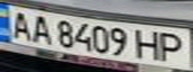0: (90, 24, 112, 55)
4: (72, 20, 93, 52)
8: (51, 17, 75, 48)
9: (109, 25, 130, 57)
A: (3, 8, 36, 41), (27, 14, 54, 45)
H: (133, 28, 166, 61)
P: (154, 29, 190, 64)
